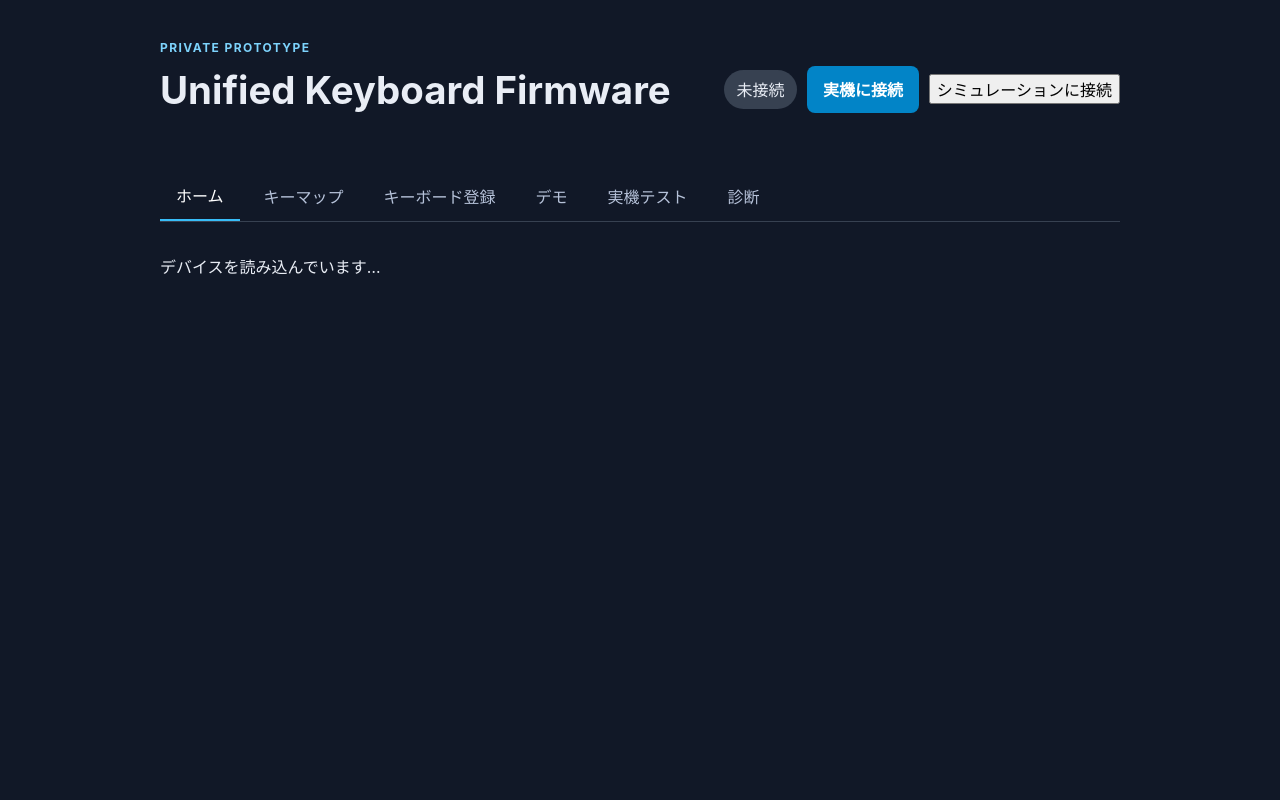
bridge configuration › opens a source settings screen from its dashboard card
Click the button "シミュレーションに接続".
click(1024, 89)  # box [929,74,1120,104]
(page scrolled)
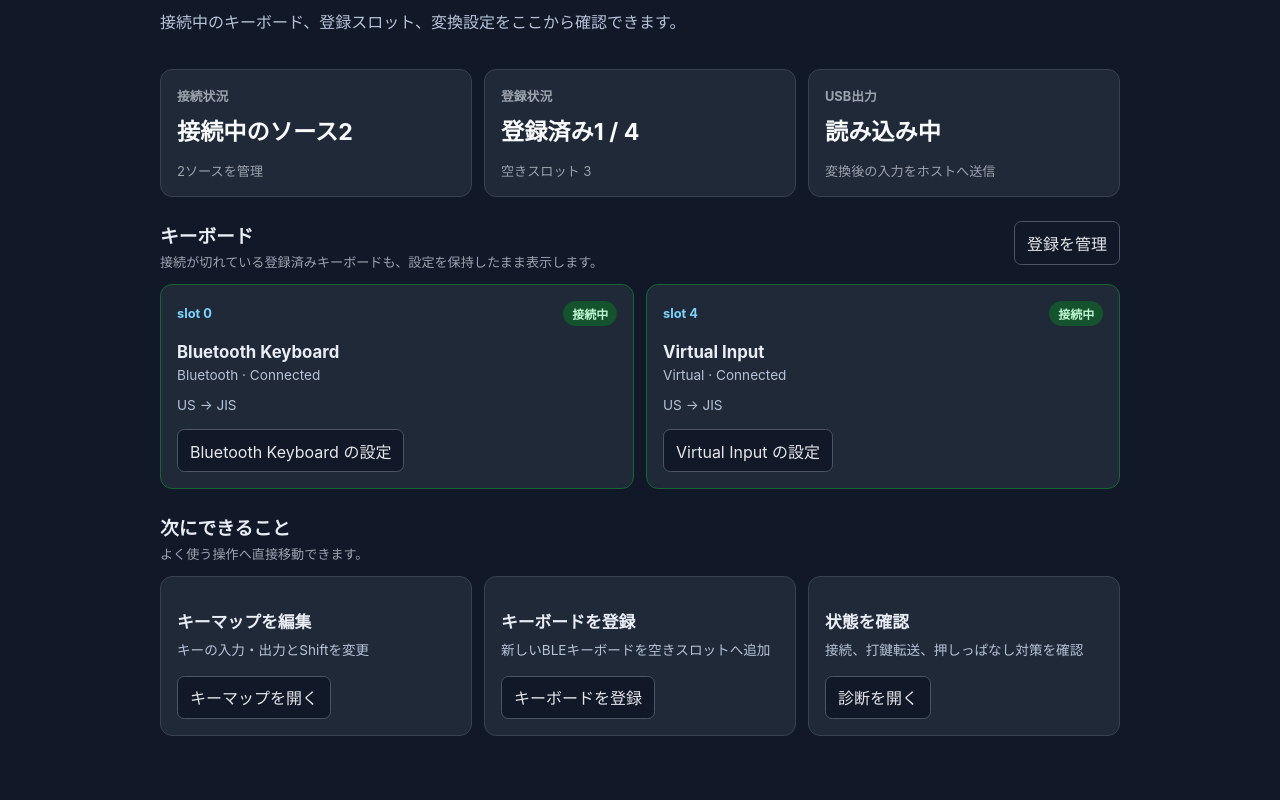
Click the button "Bluetooth Keyboard の設定".
click(291, 451)  # box [177,429,404,472]
(page scrolled)
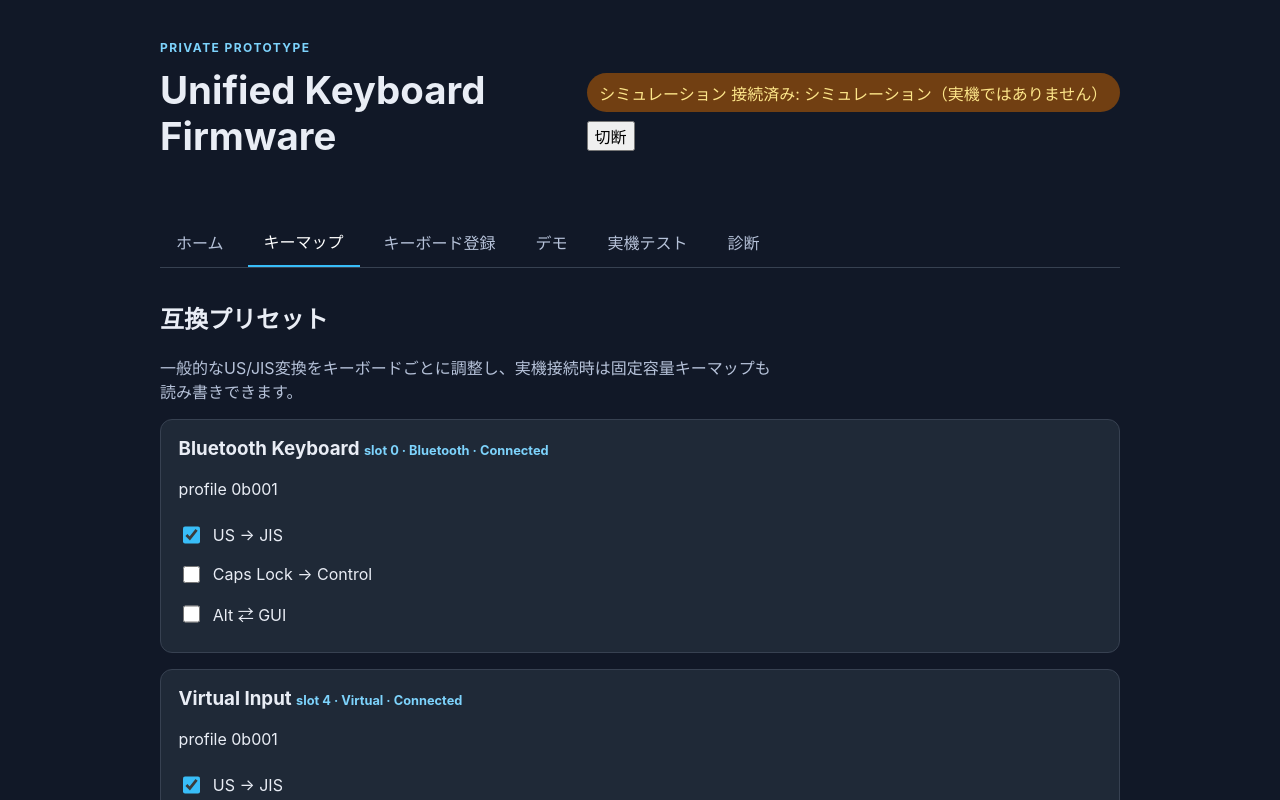
Check: the heading "互換プリセット" is shown, box [160,305,328,334]
